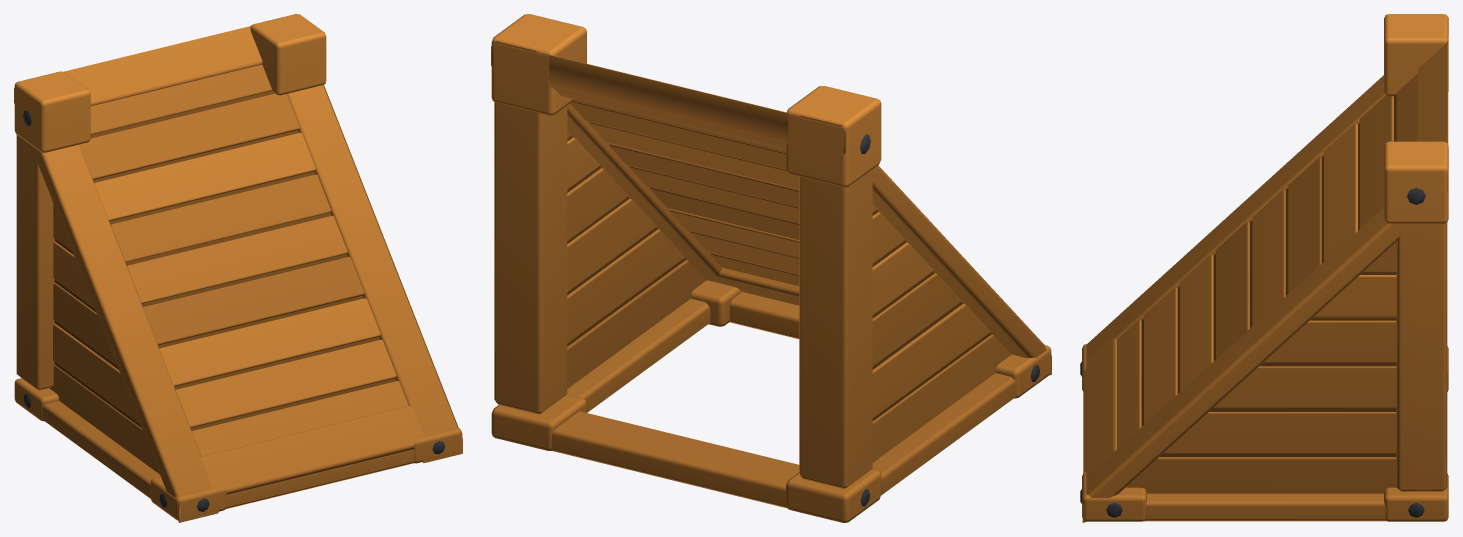
Rendered from ramp_wood.glb.
The picture shows the model from 3 angles, left to right: view 1: azimuth 30°, elevation 25°; view 2: azimuth 150°, elevation 25°; view 3: azimuth 270°, elevation 25°; orthographic projection. The views are drawn at different scales.
Visible parts, largest first — view 1: ramp_wood; view 2: ramp_wood; view 3: ramp_wood.
Boxes of the visible parts, x1,y1,x2,y2 form: ramp_wood: [14, 14, 462, 522]; ramp_wood: [491, 14, 1051, 522]; ramp_wood: [1080, 14, 1448, 522].
Size of the model in its own units: 4 by 4.25 by 3.98.
